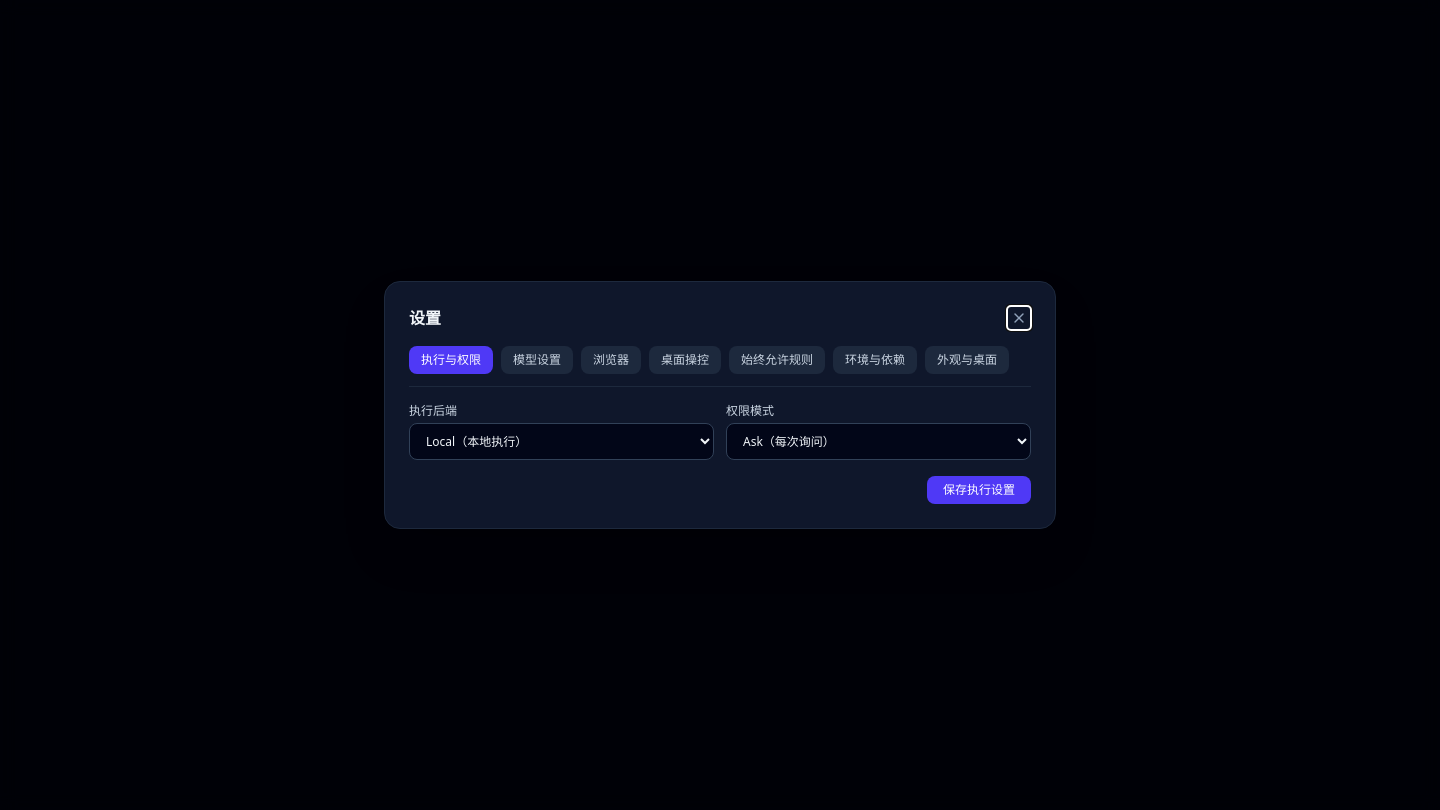
Test: Security boundary & MVP interactive cards › B5: lists PersistedPermissionRule using backend id/sessionAgnosticDigest fields and deletes by id
This screenshot has width=1440, height=810.
Later steps or results of the test are not shown.
Step 1. Click the button "始终允许规则" → (777, 360), box [729, 346, 825, 374]
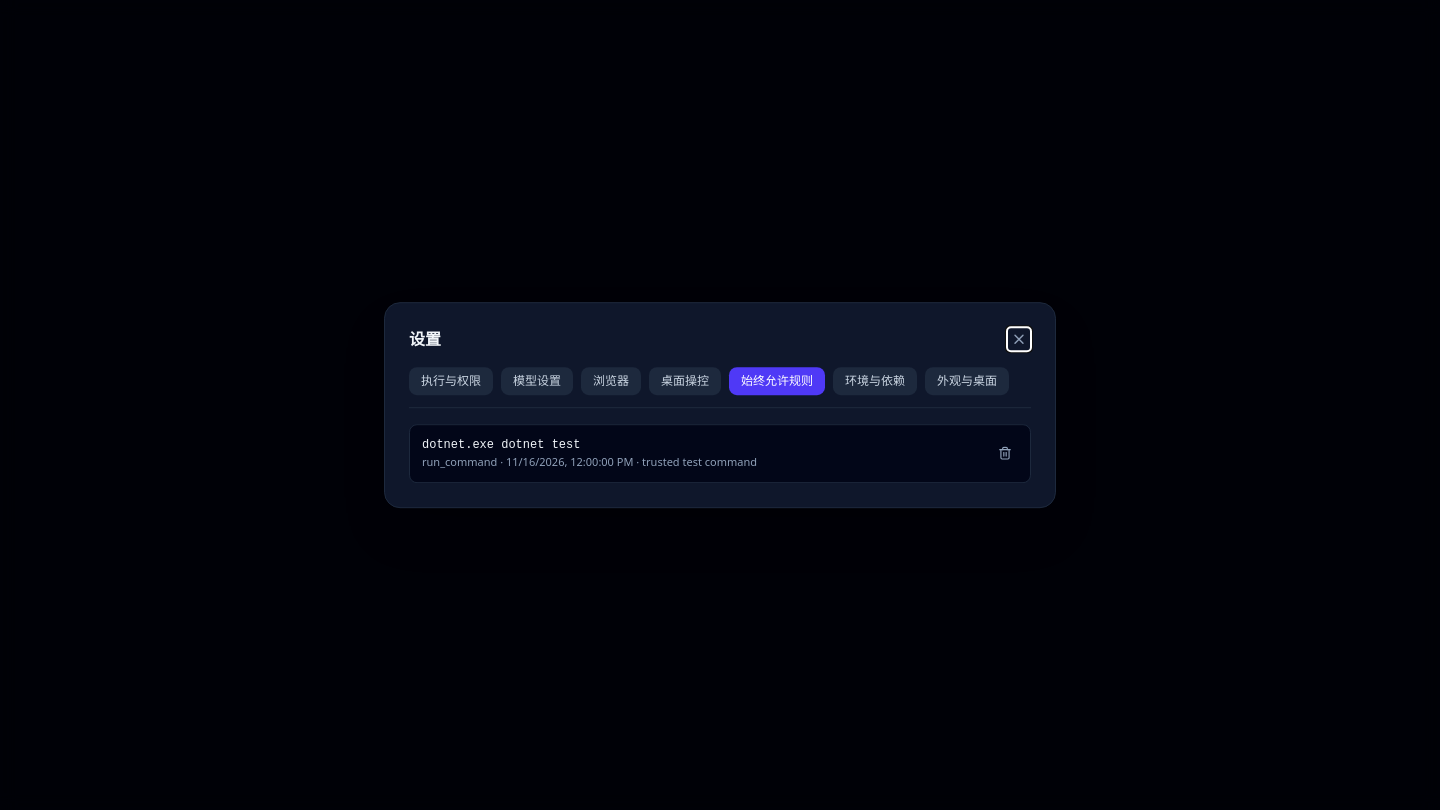
Expected: the text "dotnet.exe dotnet test" is shown, [422, 438, 580, 452]
